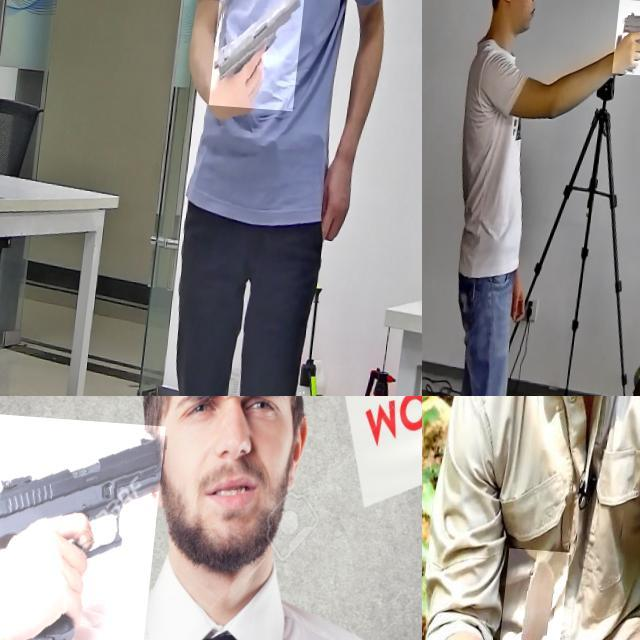-: (499, 543, 573, 640)
gun-knife-thesis - v11 Yolov5 augmented: (0, 412, 170, 640), (214, 0, 308, 105), (617, 0, 640, 71)
